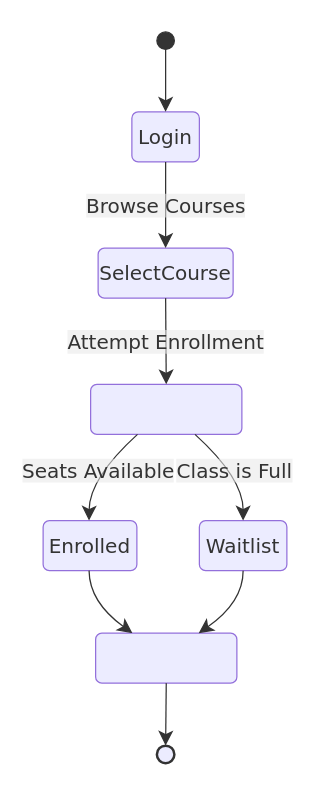
This 314x785 diagram has some shape labels left out. The centre of each missing label's shape, as x and y in pixels:
CheckCapacity: pixel 165 408
UpdateRoster: pixel 165 657
